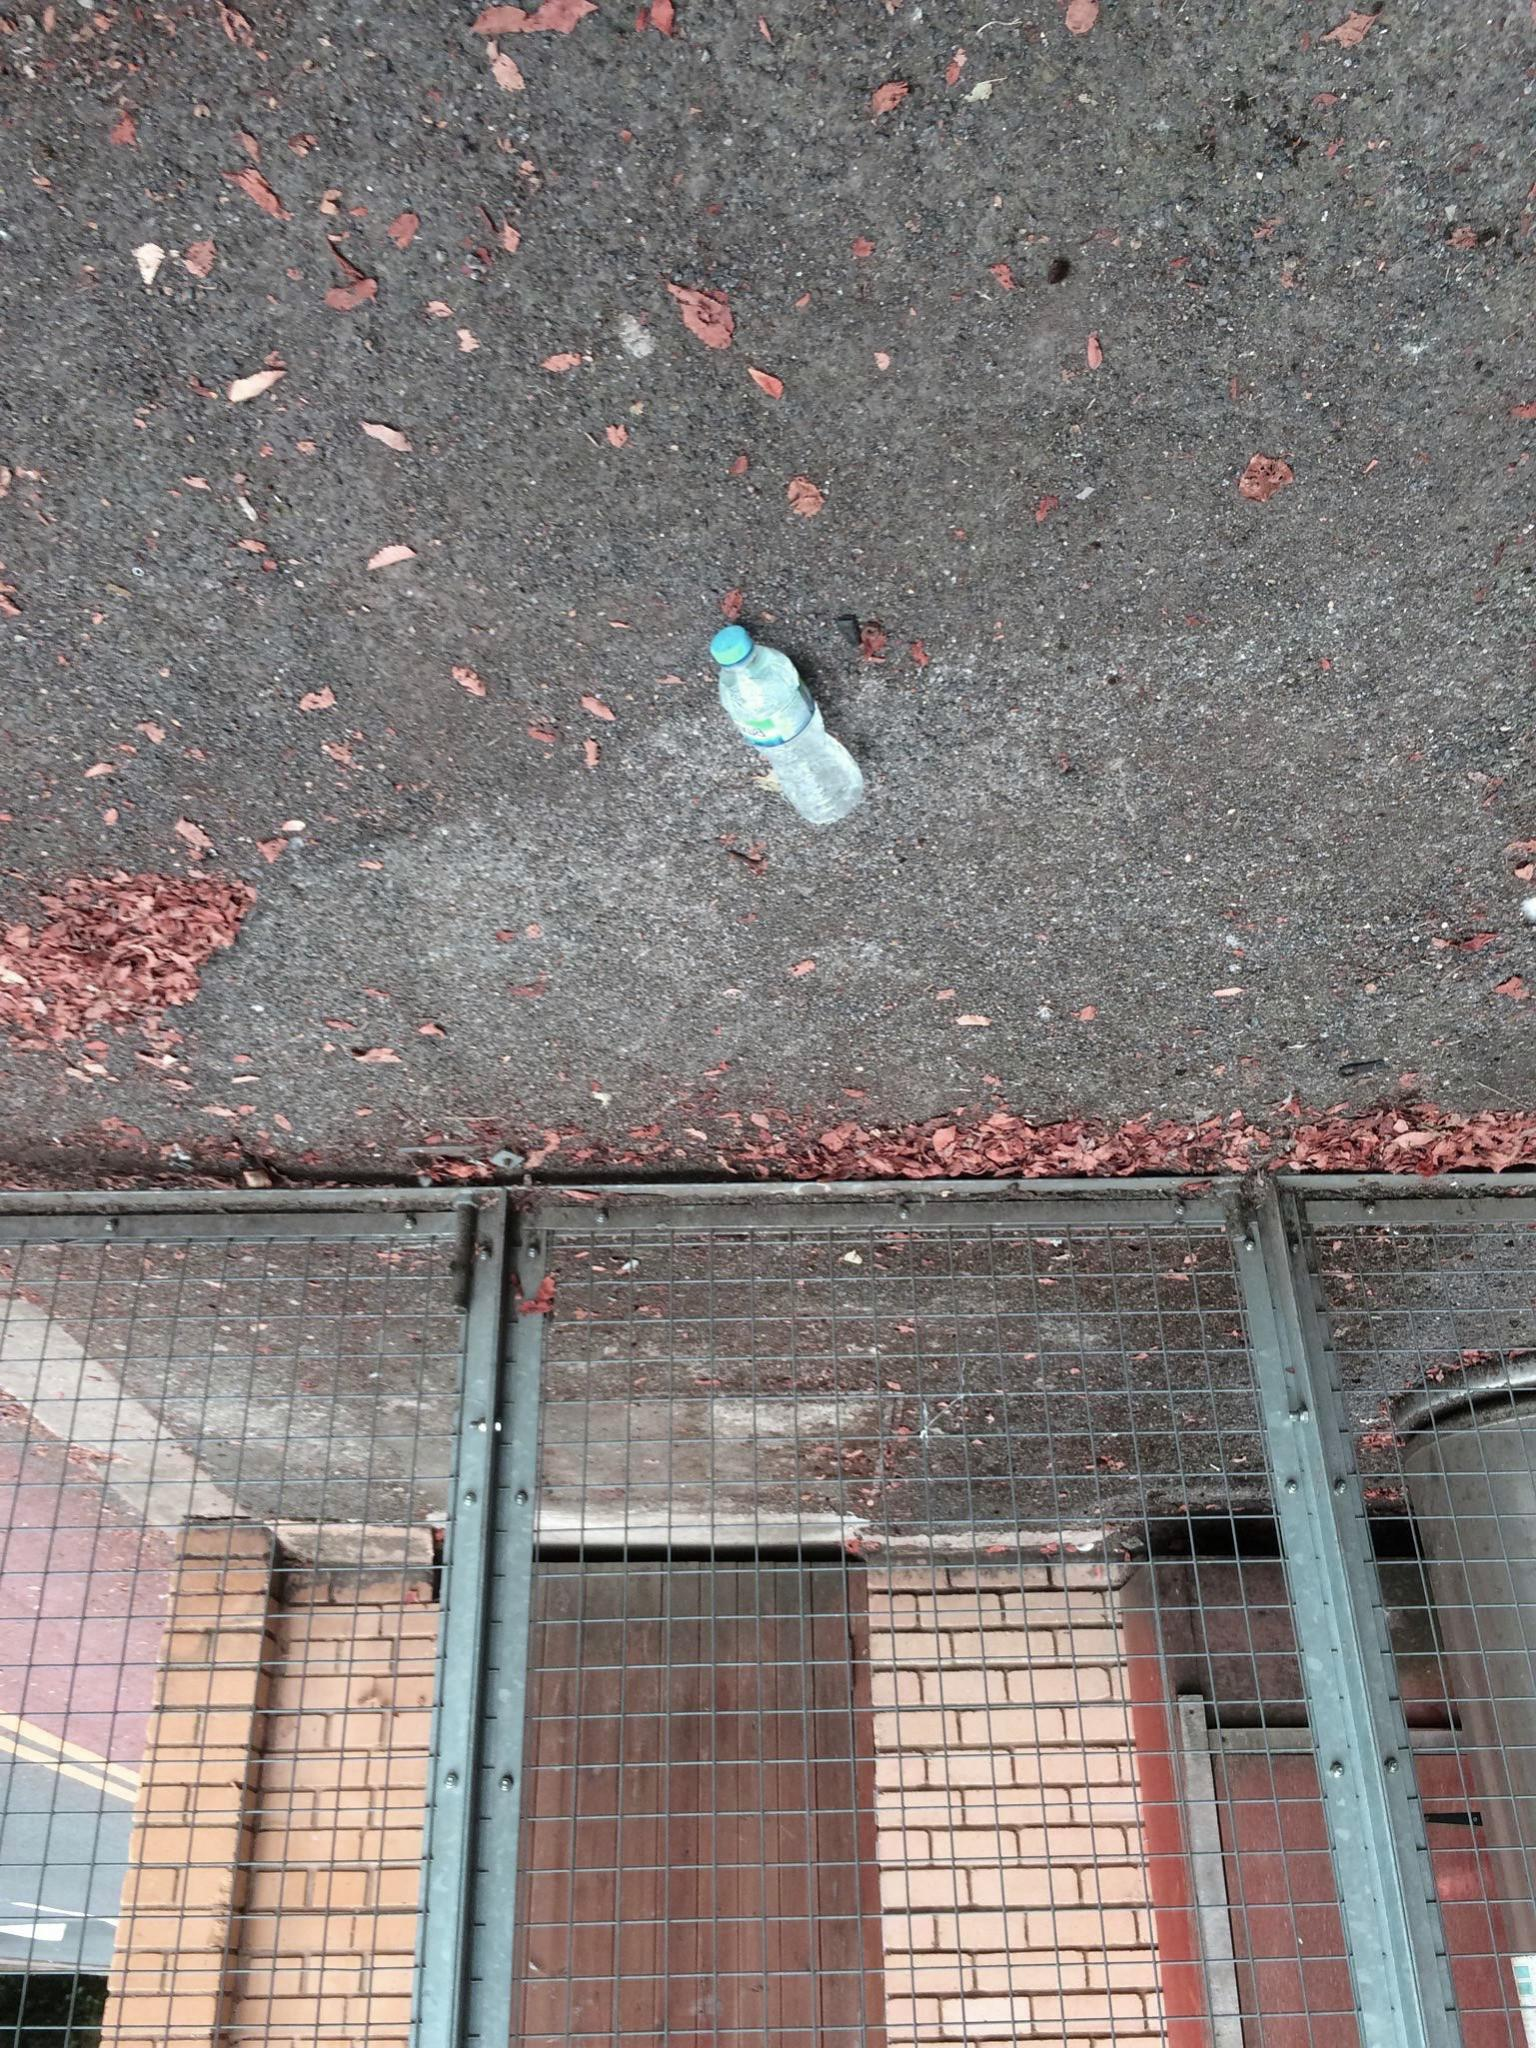Plastic: (697, 614, 874, 842)
